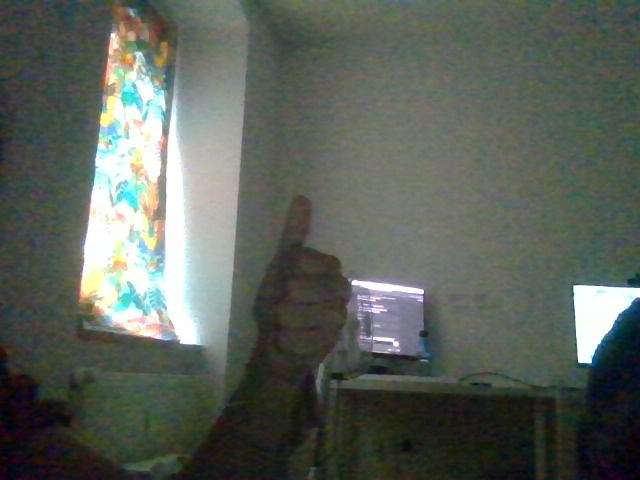Thumbs up: (230, 200, 363, 380)
